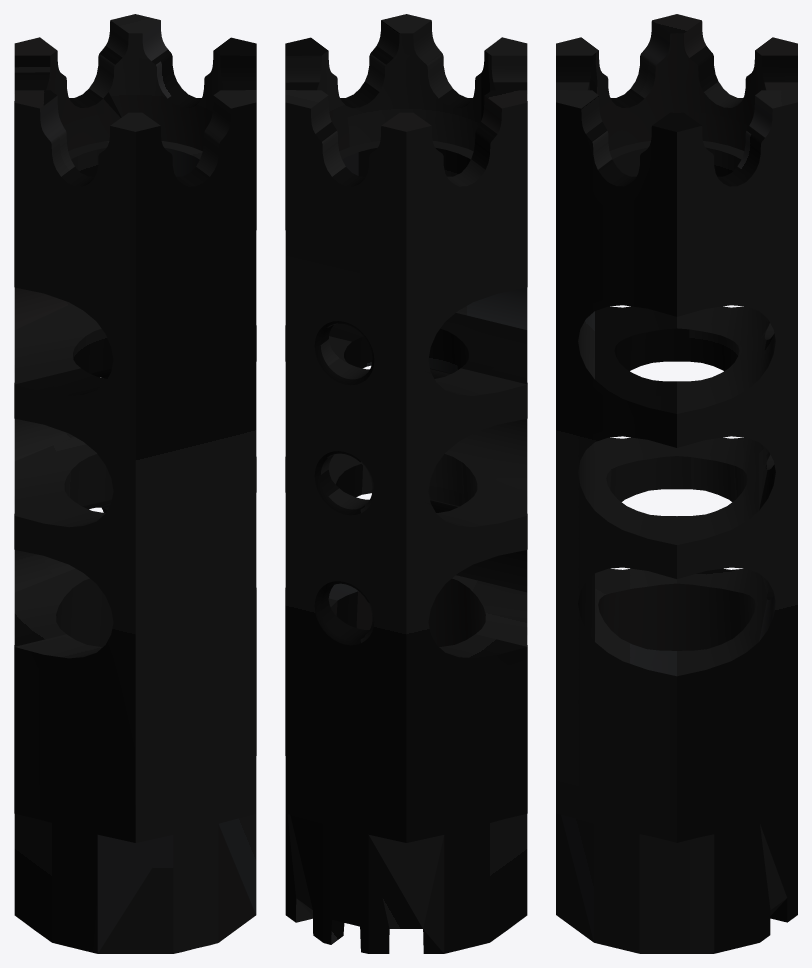
File: Muzzle_AK_Compensator.fbx
3 views of the same model, side by side, from view 1: azimuth 30°, elevation 25°; view 2: azimuth 150°, elevation 25°; view 3: azimuth 270°, elevation 25° (orthographic).
Parts seen in each view (by area): view 1: asset_Muzzle_AK_Compensator.001; view 2: asset_Muzzle_AK_Compensator.001; view 3: asset_Muzzle_AK_Compensator.001.
Part boxes in pixels (box(x1,y1,x2,y2)): asset_Muzzle_AK_Compensator.001: box(14, 14, 256, 953); asset_Muzzle_AK_Compensator.001: box(285, 14, 527, 953); asset_Muzzle_AK_Compensator.001: box(556, 14, 797, 953).
Bounding box in the file's own units: 0.0128 × 0.042 × 0.0111.
